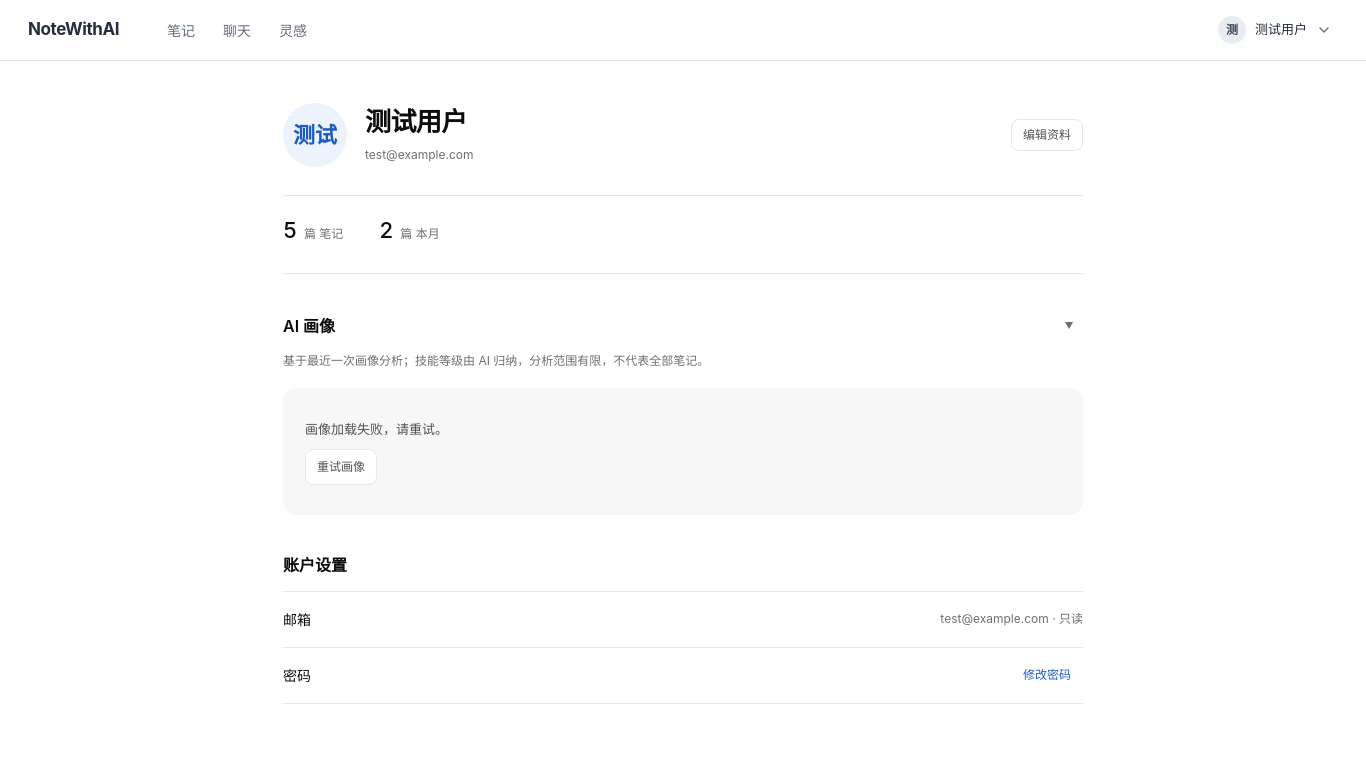
Test: ProfilePage › 画像 GET 首次失败时只显示本区重试，重试仍只发 GET
Check: the text "画像加载失败，请重试。" is shown, box [305,421,448,437]
Check: the text "2" is shown, box [379,214,393,247]
Click the button "重试画像" at (341, 467), box [305,449,377,485]
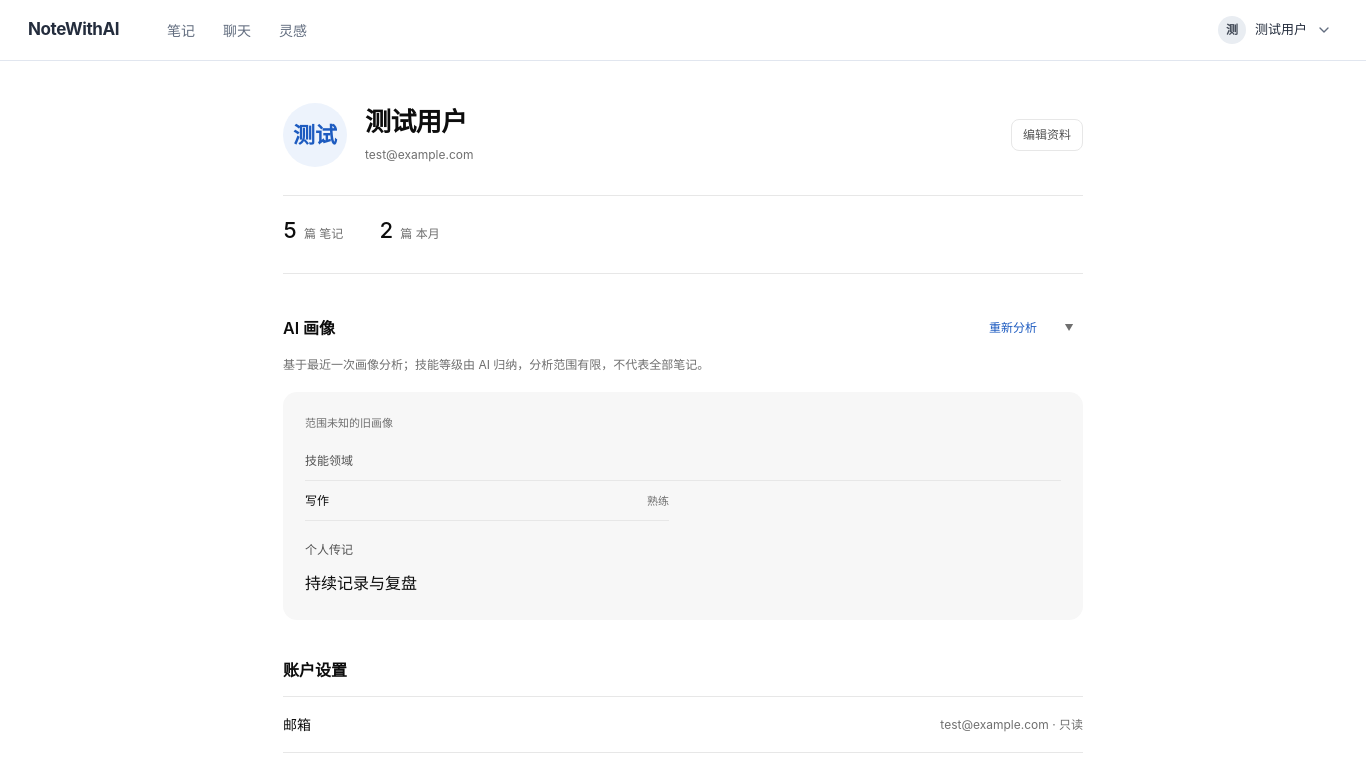
Check: the text "持续记录与复盘" is shown, box [305,573,417,593]
